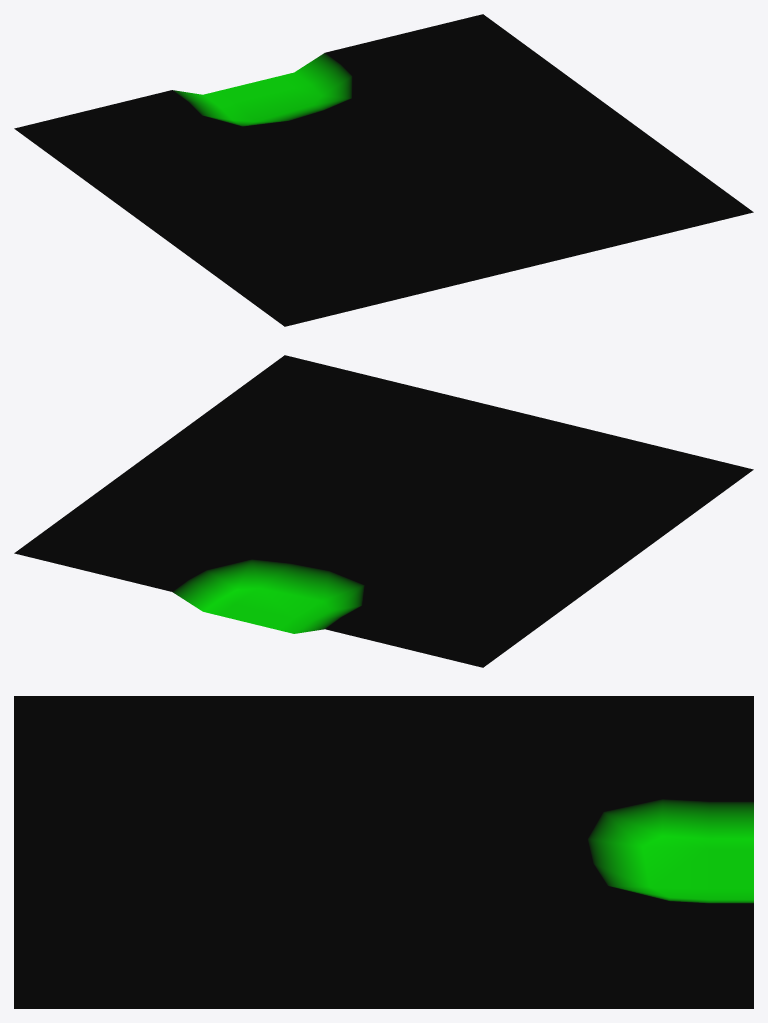
File: SM_Ground_8m_PathwayEnd.FBX
3 views of the same model, one above another, from view 1: azimuth 30°, elevation 25°; view 2: azimuth 150°, elevation 25°; view 3: azimuth 270°, elevation 25° (orthographic). The views are drawn at different scales.
Visible parts, largest first — view 1: SM_Ground_8m_PathwayEnd; view 2: SM_Ground_8m_PathwayEnd; view 3: SM_Ground_8m_PathwayEnd.
Boxes of the visible parts, x1,y1,x2,y2 form: SM_Ground_8m_PathwayEnd: (14, 14, 753, 326); SM_Ground_8m_PathwayEnd: (14, 355, 753, 667); SM_Ground_8m_PathwayEnd: (14, 696, 753, 1008).
Size of the model in its own units: 800 by 800 by 20.
